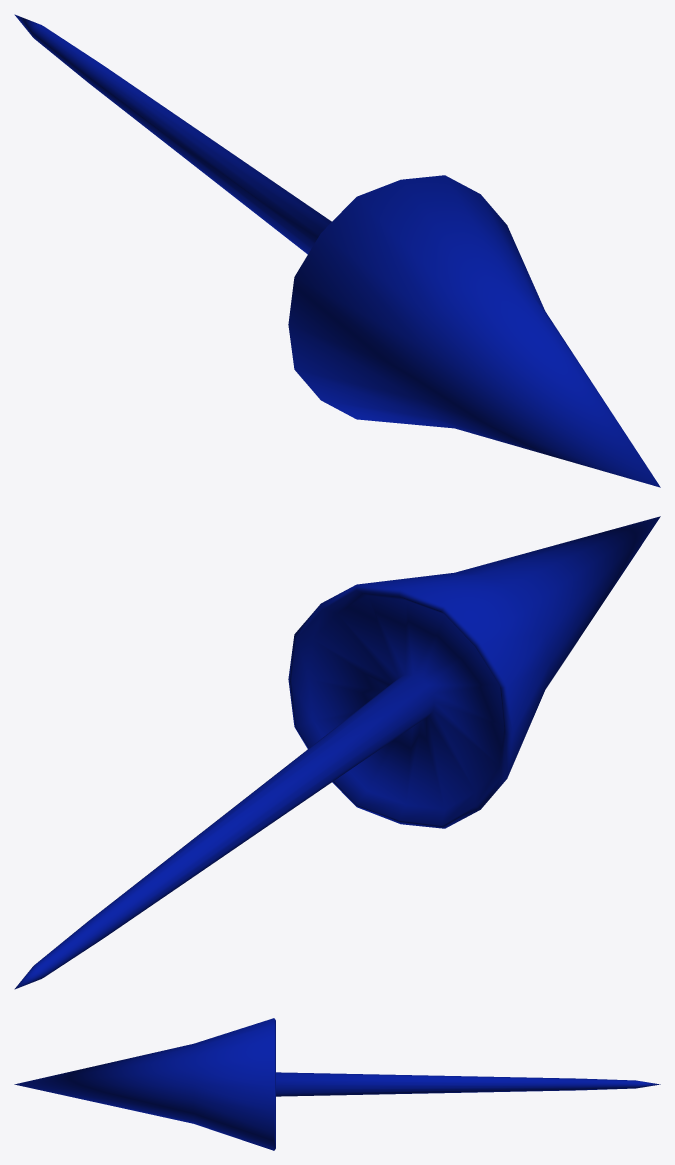
The model's file is ZBlueArrow.obj.
3 renders of one model, top to bottom at view 1: azimuth 30°, elevation 25°; view 2: azimuth 150°, elevation 25°; view 3: azimuth 270°, elevation 25°, orthographic. The views are drawn at different scales.
Parts seen in each view (by area): view 1: zBlueArrow_xRedArrow_XArrow_Red_XArrow_Cube.003; view 2: zBlueArrow_xRedArrow_XArrow_Red_XArrow_Cube.003; view 3: zBlueArrow_xRedArrow_XArrow_Red_XArrow_Cube.003.
Part boxes in pixels (box(x1,y1,x2,y2)): zBlueArrow_xRedArrow_XArrow_Red_XArrow_Cube.003: box(14, 14, 660, 487); zBlueArrow_xRedArrow_XArrow_Red_XArrow_Cube.003: box(14, 516, 660, 989); zBlueArrow_xRedArrow_XArrow_Red_XArrow_Cube.003: box(14, 1018, 660, 1150).
Bounding box in the file's own units: 0.257 × 0.257 × 1.28.
